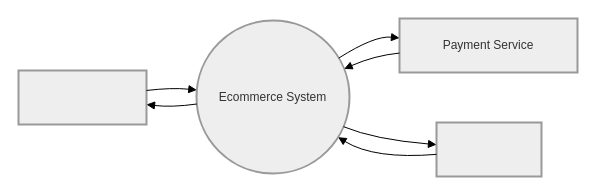
Some shapes in this 595 by 194 pixel diagram are drawn without their labels. The shapes that lost their labels are listed below. From the top down, each one's box as (x1, y1, x2, y2) in pixels, then its label:
(17, 69, 147, 125): Customer
(435, 121, 542, 177): Admin
